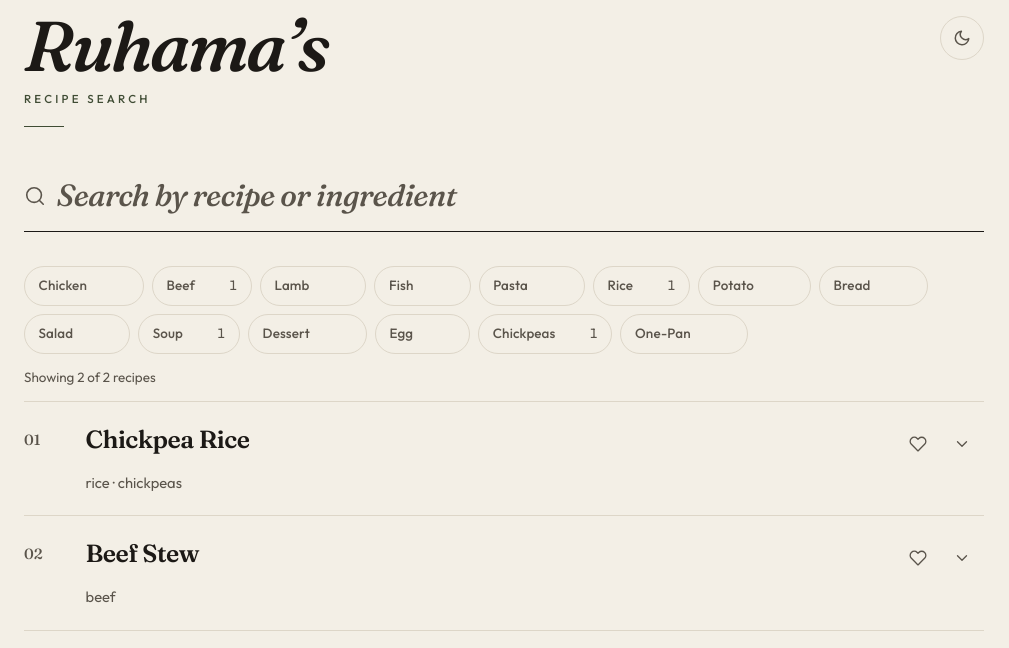
it: App › filters recipes from query text
Step 1. Type "chickpeas" into the search field named "Search recipes" → coordinates (520, 196), box [56,164,984,228]
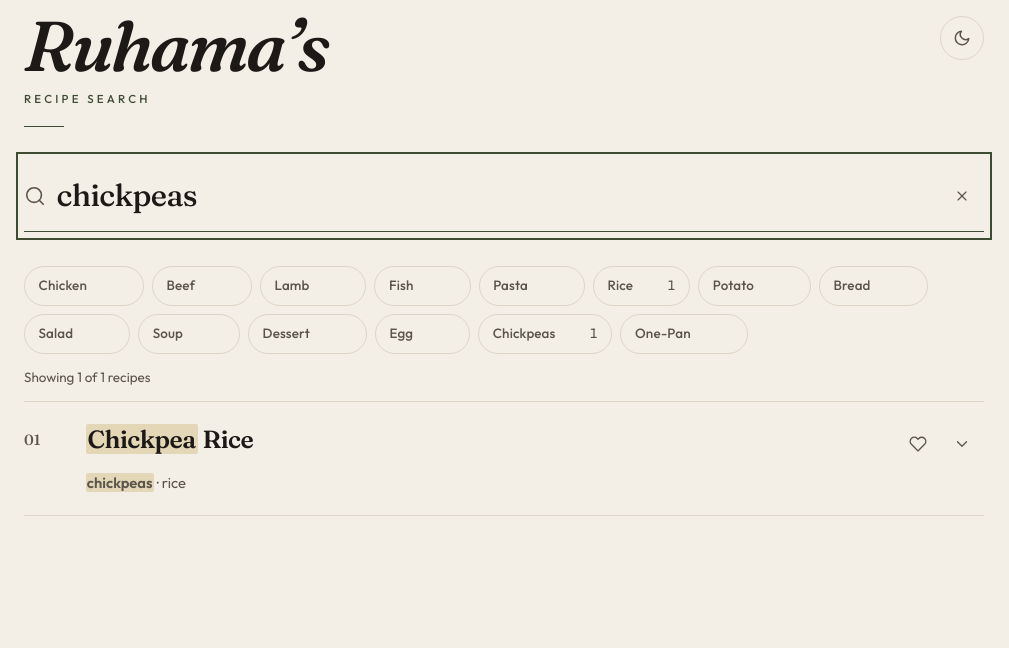
expect the heading "Chickpea Rice" is shown: met, box [86,424,253,454]
expect the heading "Beef Stew" is gone: met
